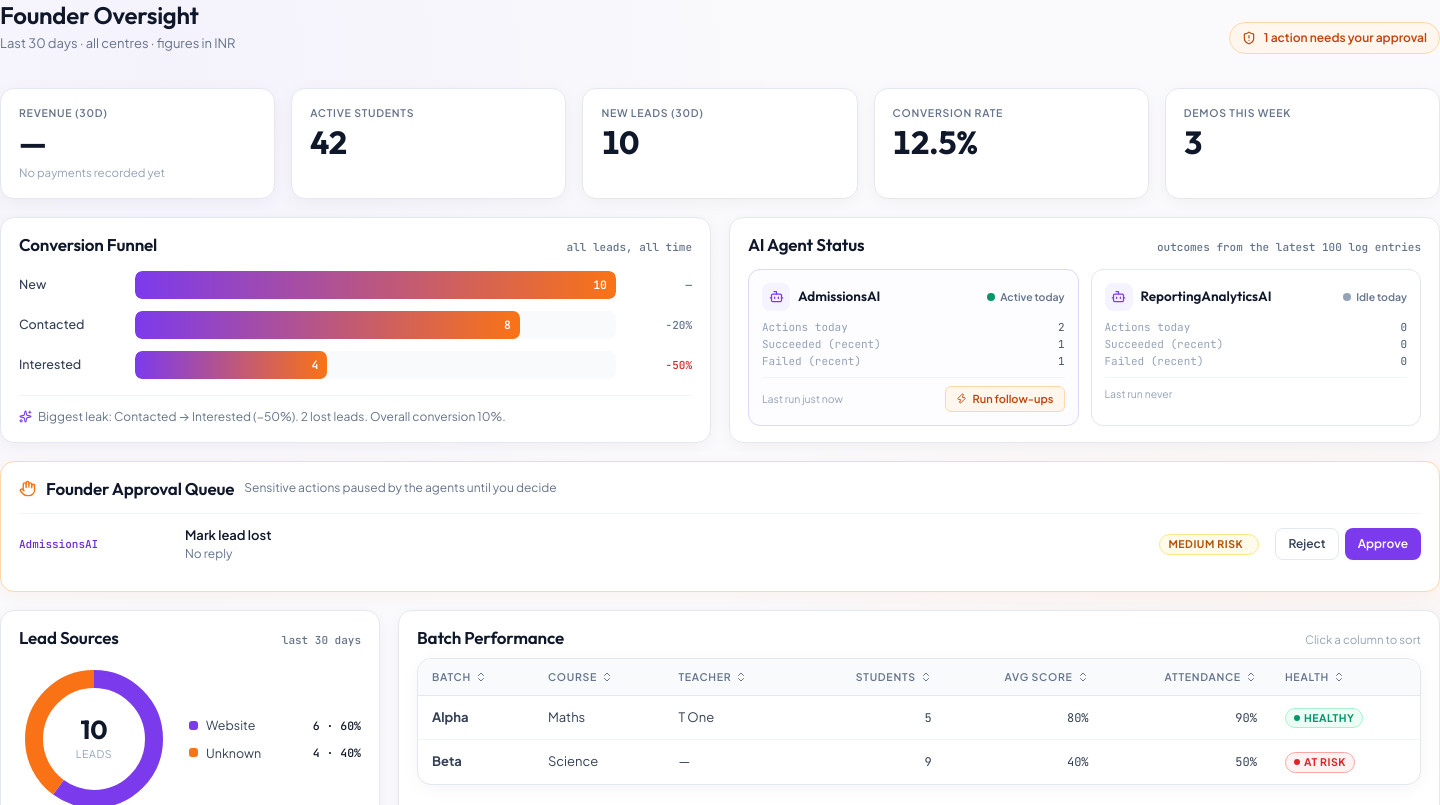
Test: OverviewView › shows the failure of an executed-but-failed approval
The image size is (1440, 805).
Click the button with aria-label "Approve: Mark lead lost" at (1383, 544), box [1345,528,1421,560]
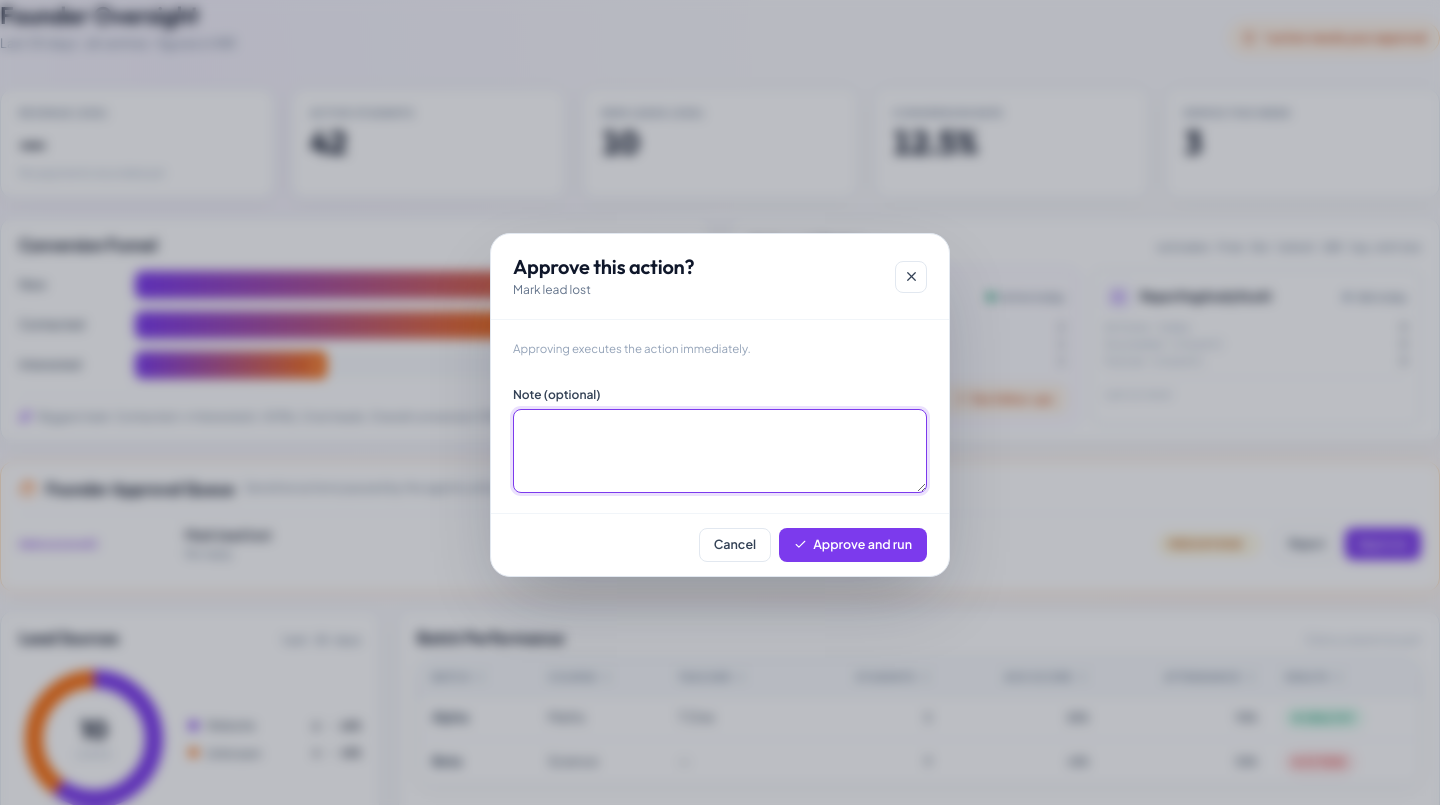
Click the button "Approve and run" at (853, 545), box [779,528,927,562]
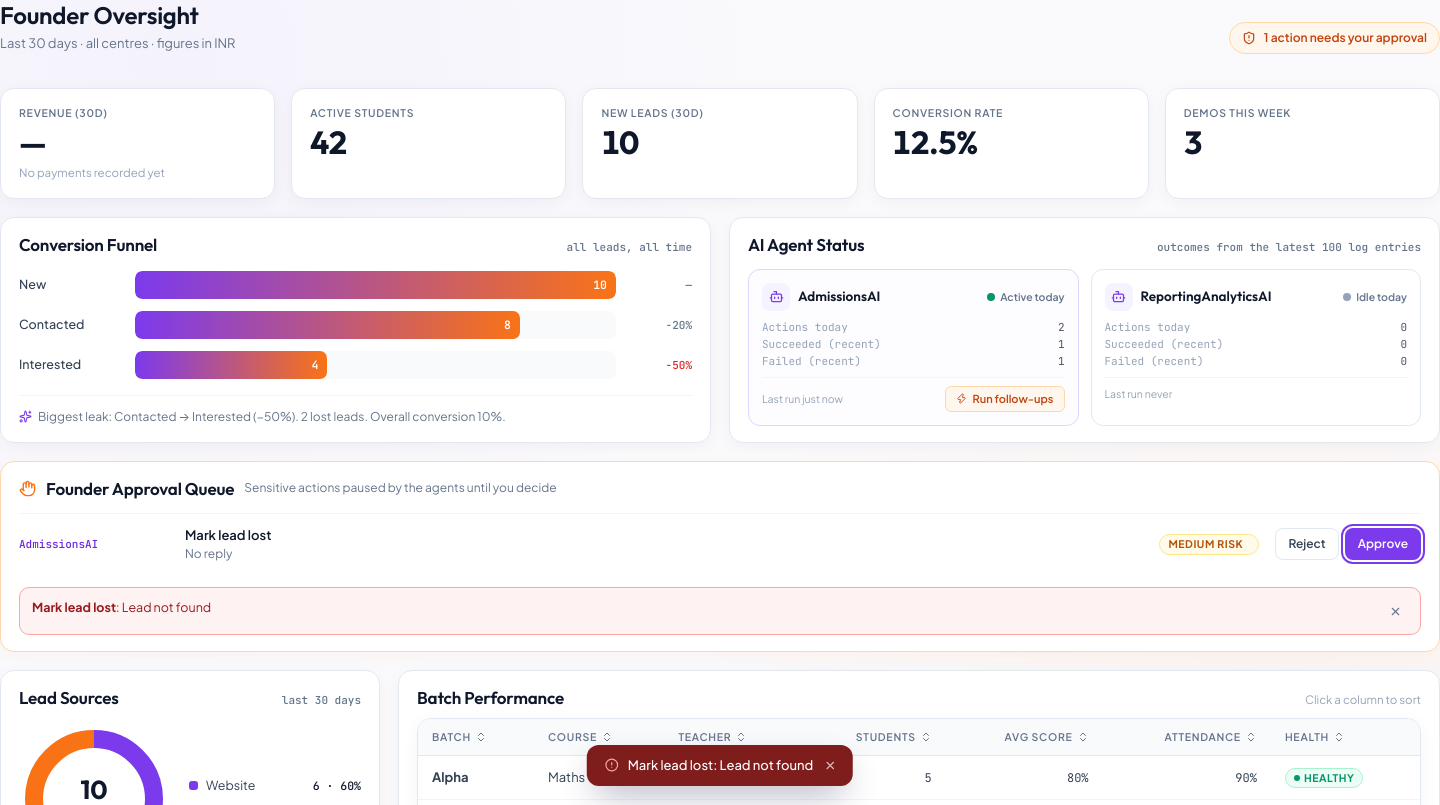
Check: the text "Mark lead lost: Lead not found" below "No reply" is shown, box [122,599,211,615]
